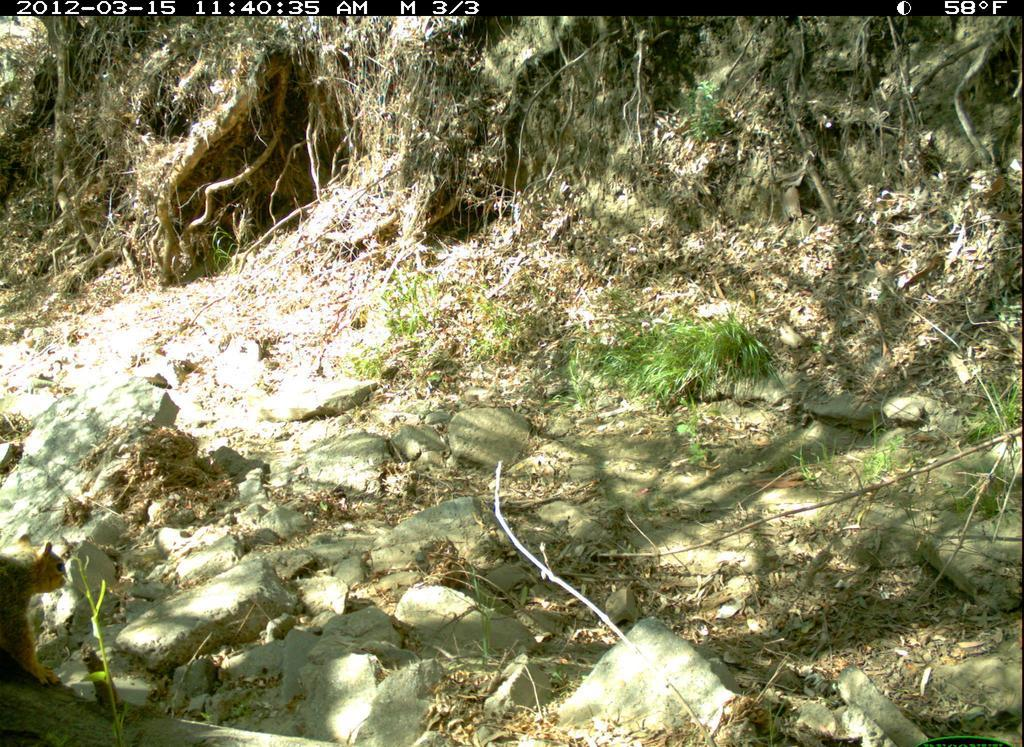squirrel: (1, 536, 82, 696)
